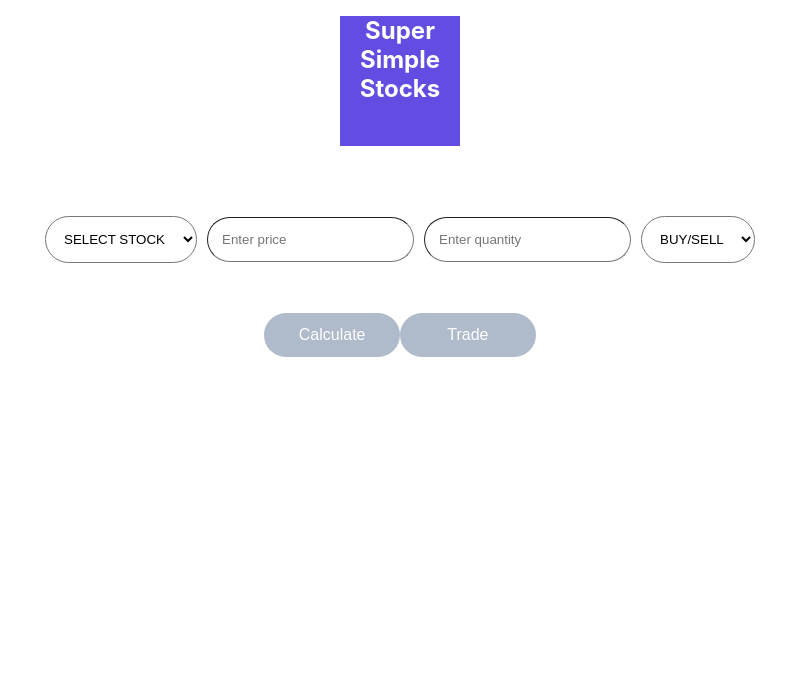
Test case: App › calculates values on calculate
The image size is (801, 694).
Expected: the button with test id "button-calculate" is disabled, left=264, top=313, right=400, bottom=357
Select "TEA" in the dropdown with test id "stock-list": point(121, 239) left=45, top=216, right=197, bottom=263
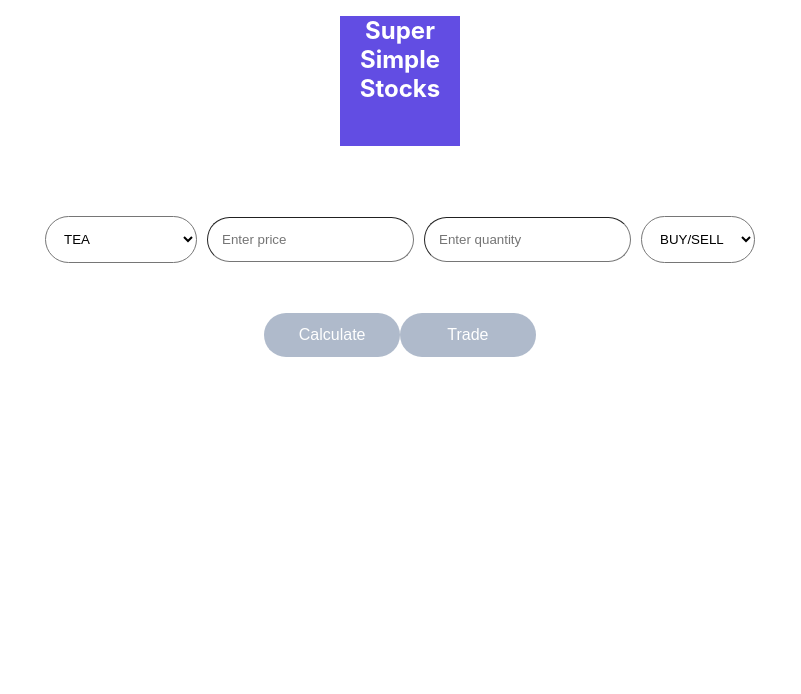
In the number field with test id "input-price": point(310, 239) left=207, top=217, right=414, bottom=262, type "100"
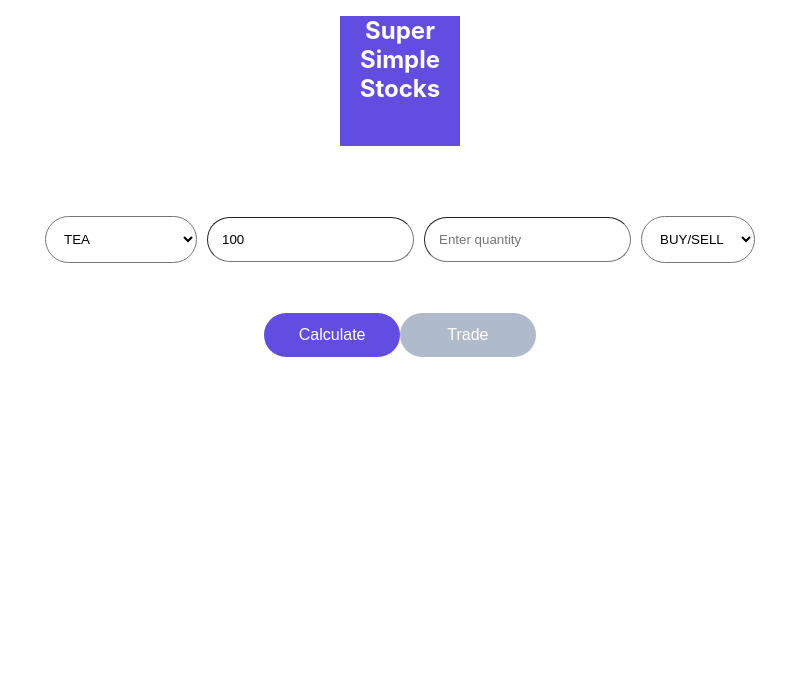
Now the button with test id "button-calculate" is enabled
Click the button with test id "button-calculate": point(332, 335) left=264, top=313, right=400, bottom=357
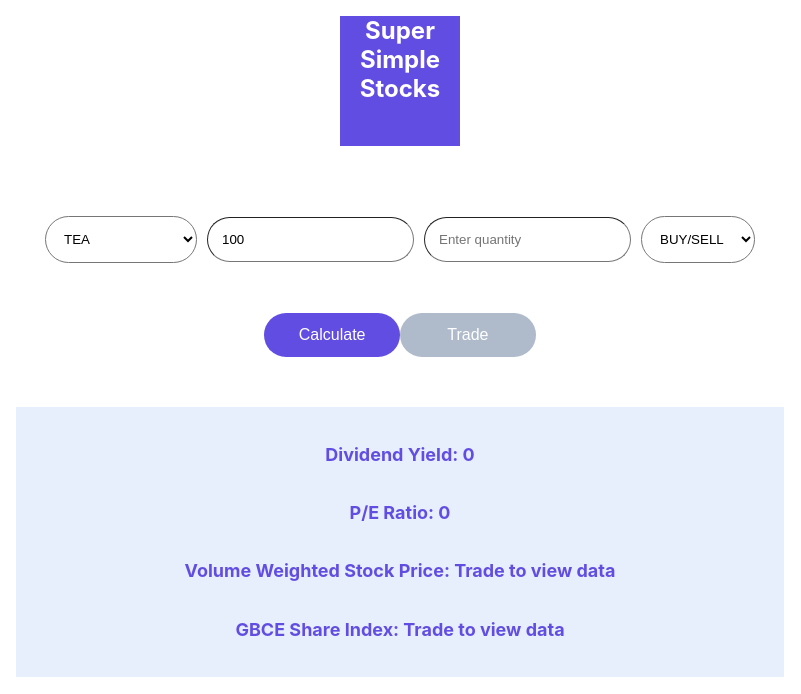
Now the text "Dividend Yield: 0" is shown, box left=325, top=444, right=475, bottom=465
Now the text "P/E Ratio: 0" is shown, box left=350, top=502, right=450, bottom=523
Now the text "Volume Weighted Stock Price: Trade to view data" is shown, box left=184, top=560, right=615, bottom=581
